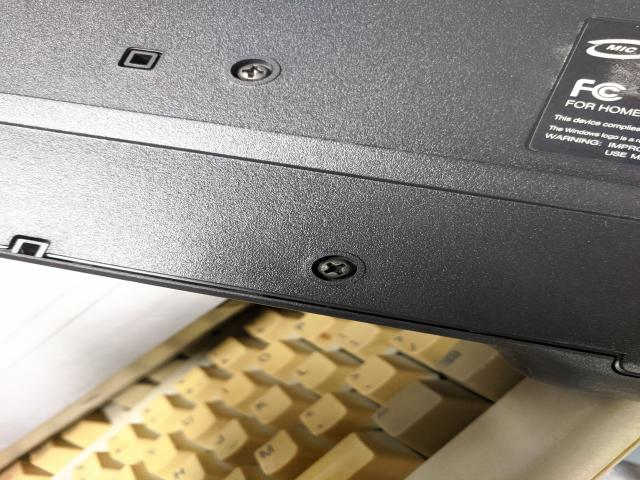CRS: (311, 258, 363, 283), (236, 61, 271, 80)
